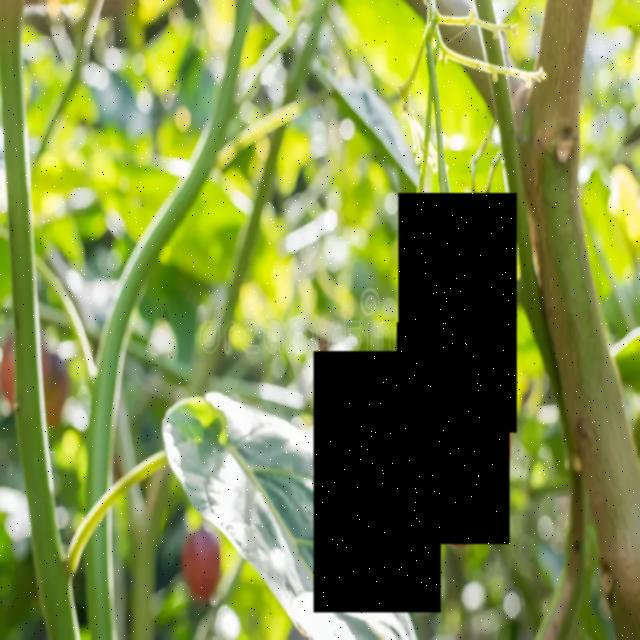Tree_Tomato: (314, 352, 441, 613), (399, 193, 518, 433), (398, 323, 510, 544)
